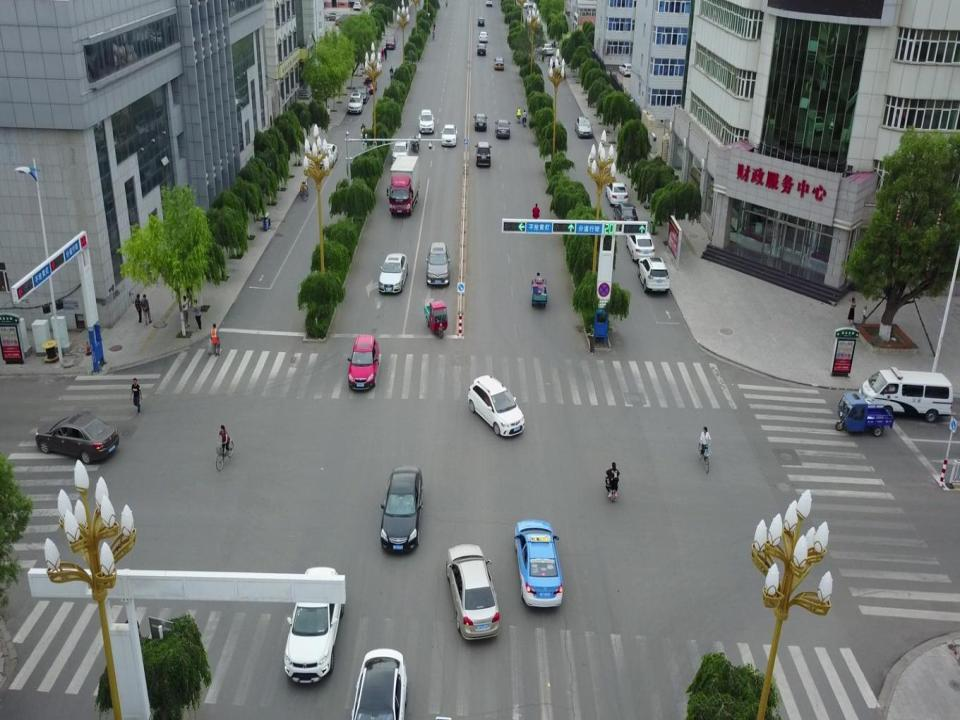car: (283, 565, 345, 681), (444, 543, 500, 641), (514, 514, 564, 608), (36, 412, 120, 465), (379, 464, 424, 556), (350, 648, 405, 718), (467, 376, 524, 439), (345, 333, 382, 392), (376, 252, 407, 295), (637, 257, 670, 294), (424, 242, 450, 287), (471, 141, 494, 169), (317, 142, 338, 170), (574, 117, 594, 139), (417, 110, 435, 133), (391, 139, 409, 162), (181, 294, 192, 330), (440, 124, 457, 147), (346, 92, 364, 113), (193, 300, 205, 330), (494, 118, 511, 137), (352, 86, 369, 102), (473, 113, 488, 130), (618, 62, 634, 76), (324, 10, 343, 21), (492, 55, 505, 70), (362, 78, 378, 90), (547, 55, 560, 68), (385, 35, 395, 48), (476, 44, 486, 56), (334, 14, 344, 26), (543, 42, 553, 54), (478, 31, 488, 42), (522, 0, 534, 8), (352, 1, 362, 10), (484, 0, 495, 8), (476, 17, 485, 25)
van: (858, 370, 954, 421), (385, 156, 420, 217), (528, 3, 536, 13)
